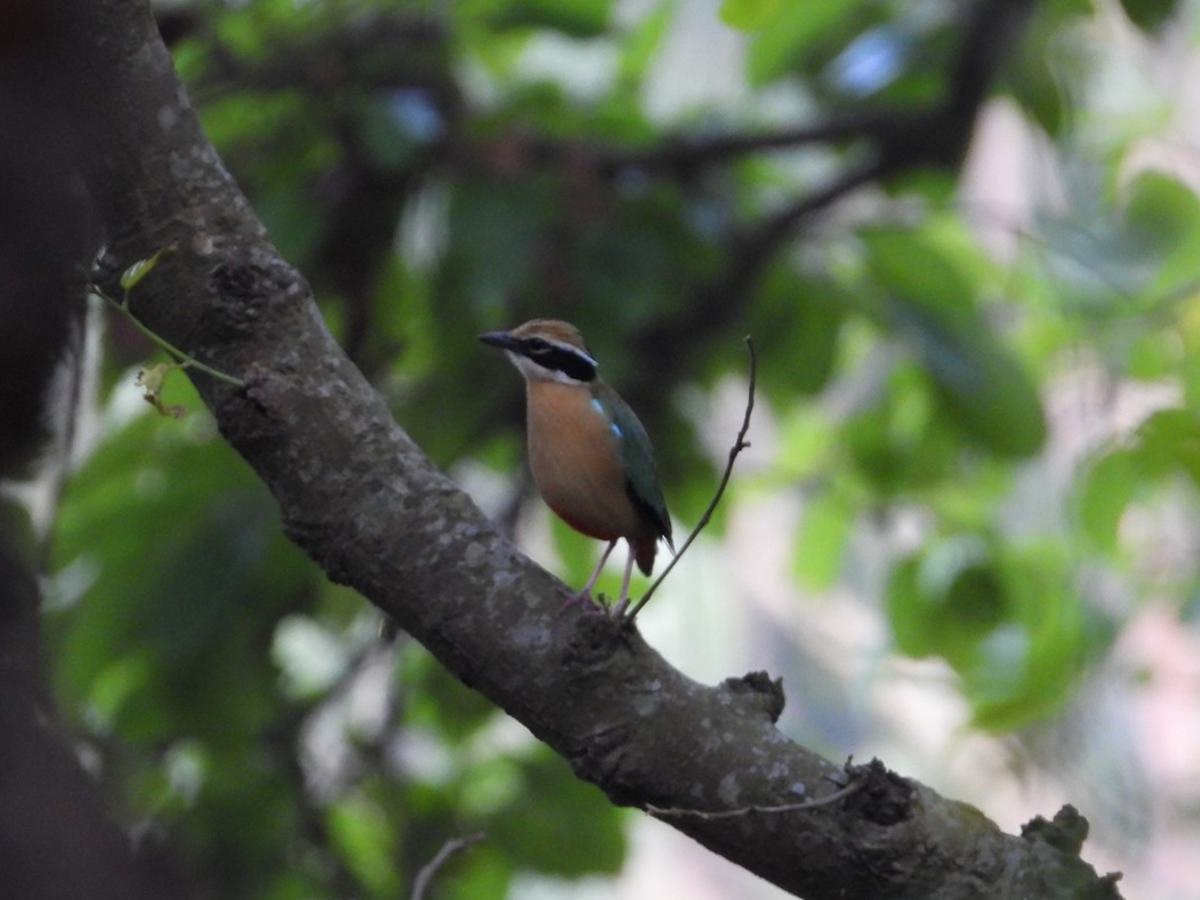pitta: (459, 274, 773, 687)
